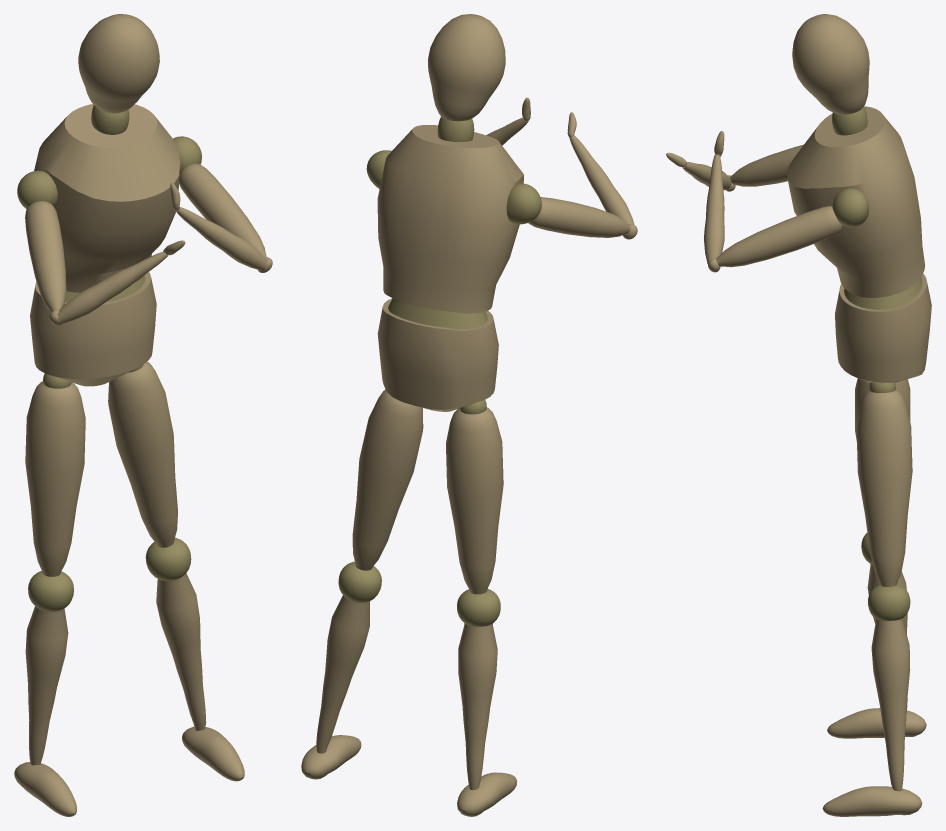
File: Mann_2.fbx
3 renders of one model, left to right at view 1: azimuth 30°, elevation 25°; view 2: azimuth 150°, elevation 25°; view 3: azimuth 270°, elevation 25°, orthographic. The views are drawn at different scales.
Parts seen in each view (by area): view 1: Cylinder.002; view 2: Cylinder.002; view 3: Cylinder.002.
Part boxes in pixels (x1=…): Cylinder.002: x1=14, y1=14, x2=272, y2=816; Cylinder.002: x1=301, y1=14, x2=637, y2=816; Cylinder.002: x1=666, y1=14, x2=931, y2=816.
Bounding box in the file's own units: 69.49 × 205 × 66.5.
